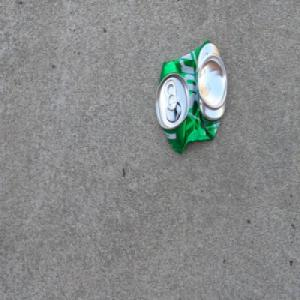SodaCan: (153, 38, 227, 155)
